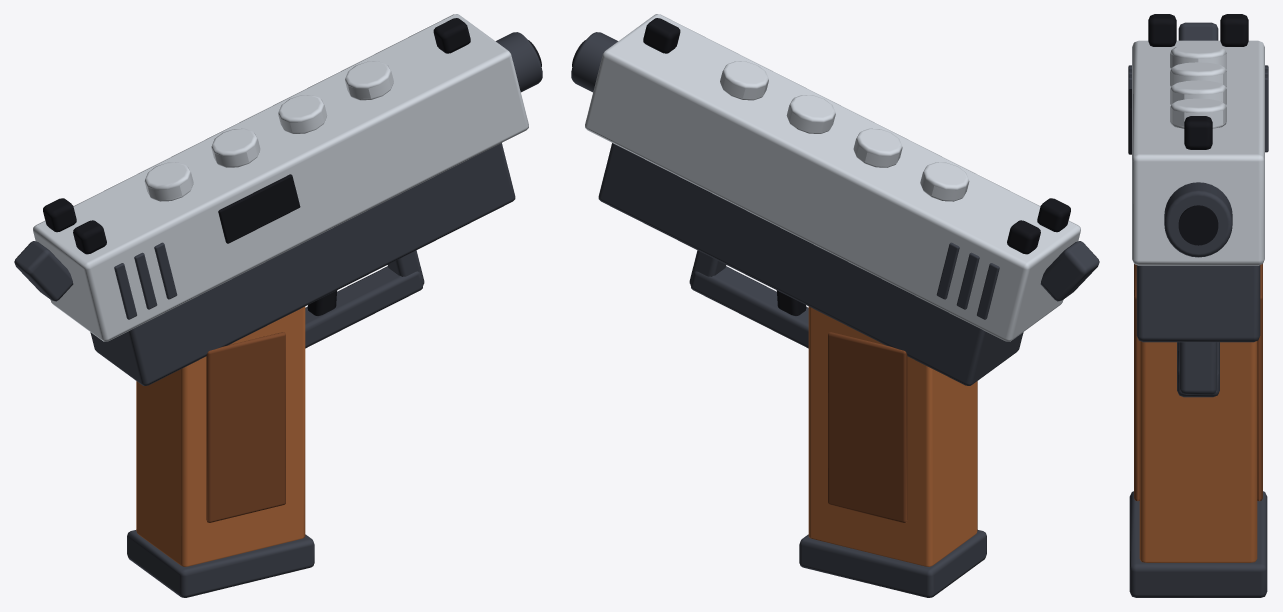
File: Gun.fbx
3 renders of one model, left to right at view 1: azimuth 30°, elevation 25°; view 2: azimuth 150°, elevation 25°; view 3: azimuth 270°, elevation 25°, orthographic. The views are drawn at different scales.
Parts seen in each view (by area): view 1: Gun_SmoothPlastic, Gun_Plastic, Gun_Metal; view 2: Gun_SmoothPlastic, Gun_Plastic, Gun_Metal; view 3: Gun_SmoothPlastic, Gun_Plastic, Gun_Metal.
Part boxes in pixels (x1=…): Gun_SmoothPlastic: x1=33, y1=14, x2=541, y2=385; Gun_Plastic: x1=136, y1=306, x2=305, y2=566; Gun_Metal: x1=14, y1=32, x2=542, y2=597; Gun_SmoothPlastic: x1=572, y1=14, x2=1080, y2=385; Gun_Plastic: x1=808, y1=306, x2=977, y2=566; Gun_Metal: x1=571, y1=32, x2=1099, y2=597; Gun_SmoothPlastic: x1=1128, y1=14, x2=1268, y2=397; Gun_Plastic: x1=1134, y1=264, x2=1262, y2=562; Gun_Metal: x1=1129, y1=22, x2=1267, y2=597.
Bounding box in the file's own units: 1.5 × 1.35 × 0.296.
Materials: 3 (3 with a texture image).
